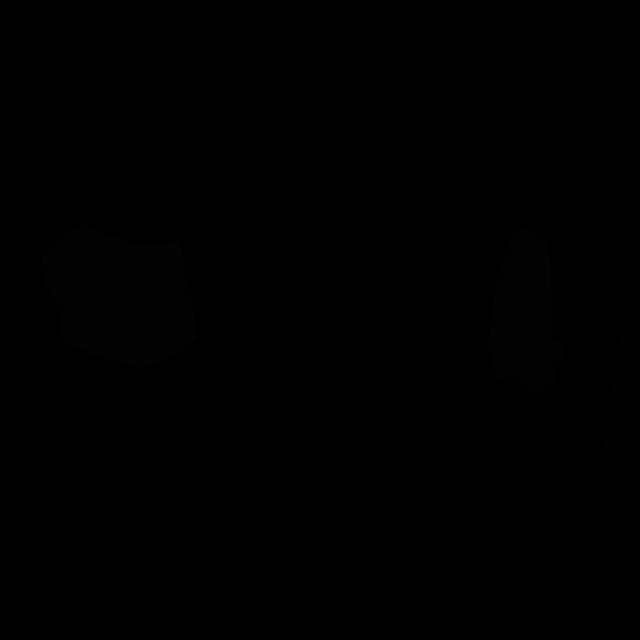cardboard: (41, 223, 197, 371), (488, 228, 565, 396)
rigid_plastic: (602, 277, 640, 485)
